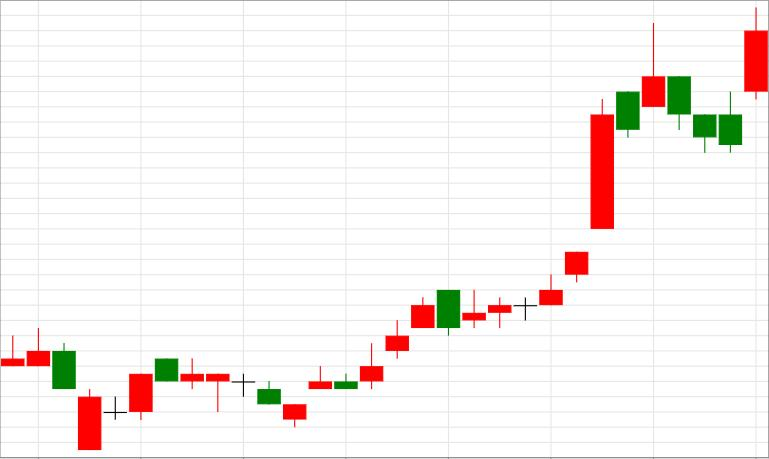shooting_star_fall: (462, 24, 666, 327)
